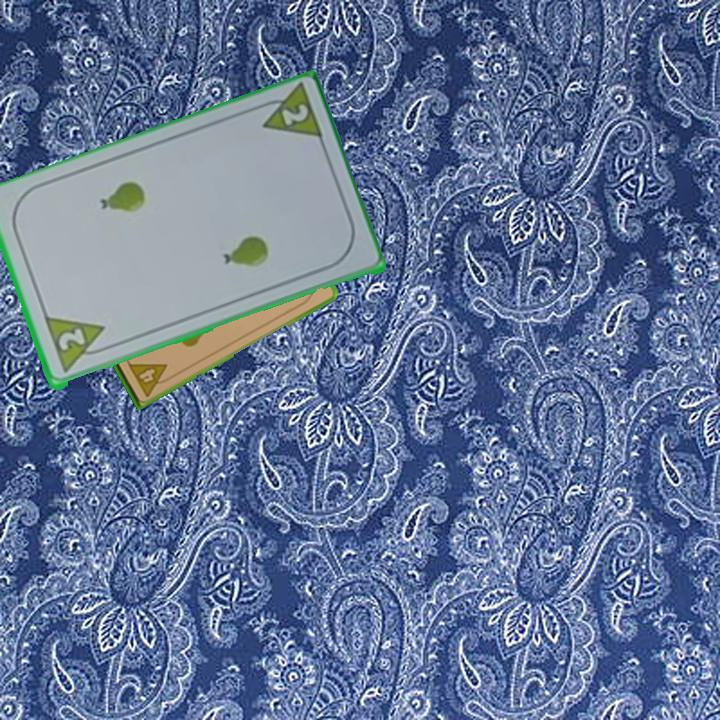2p: (250, 82, 326, 146), (54, 325, 88, 355)
4p: (124, 359, 175, 400)
